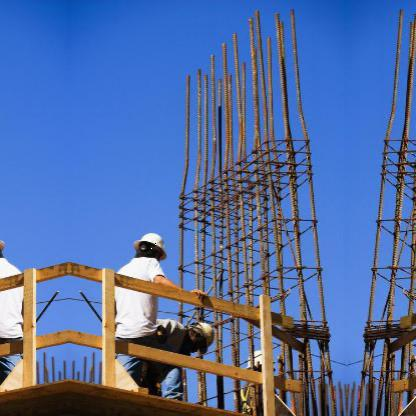safetyhelmet: (134, 225, 170, 261)
